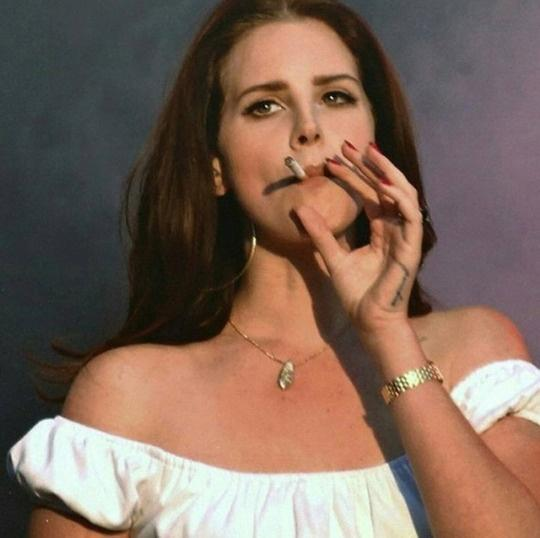cigarette: (283, 155, 309, 182)
